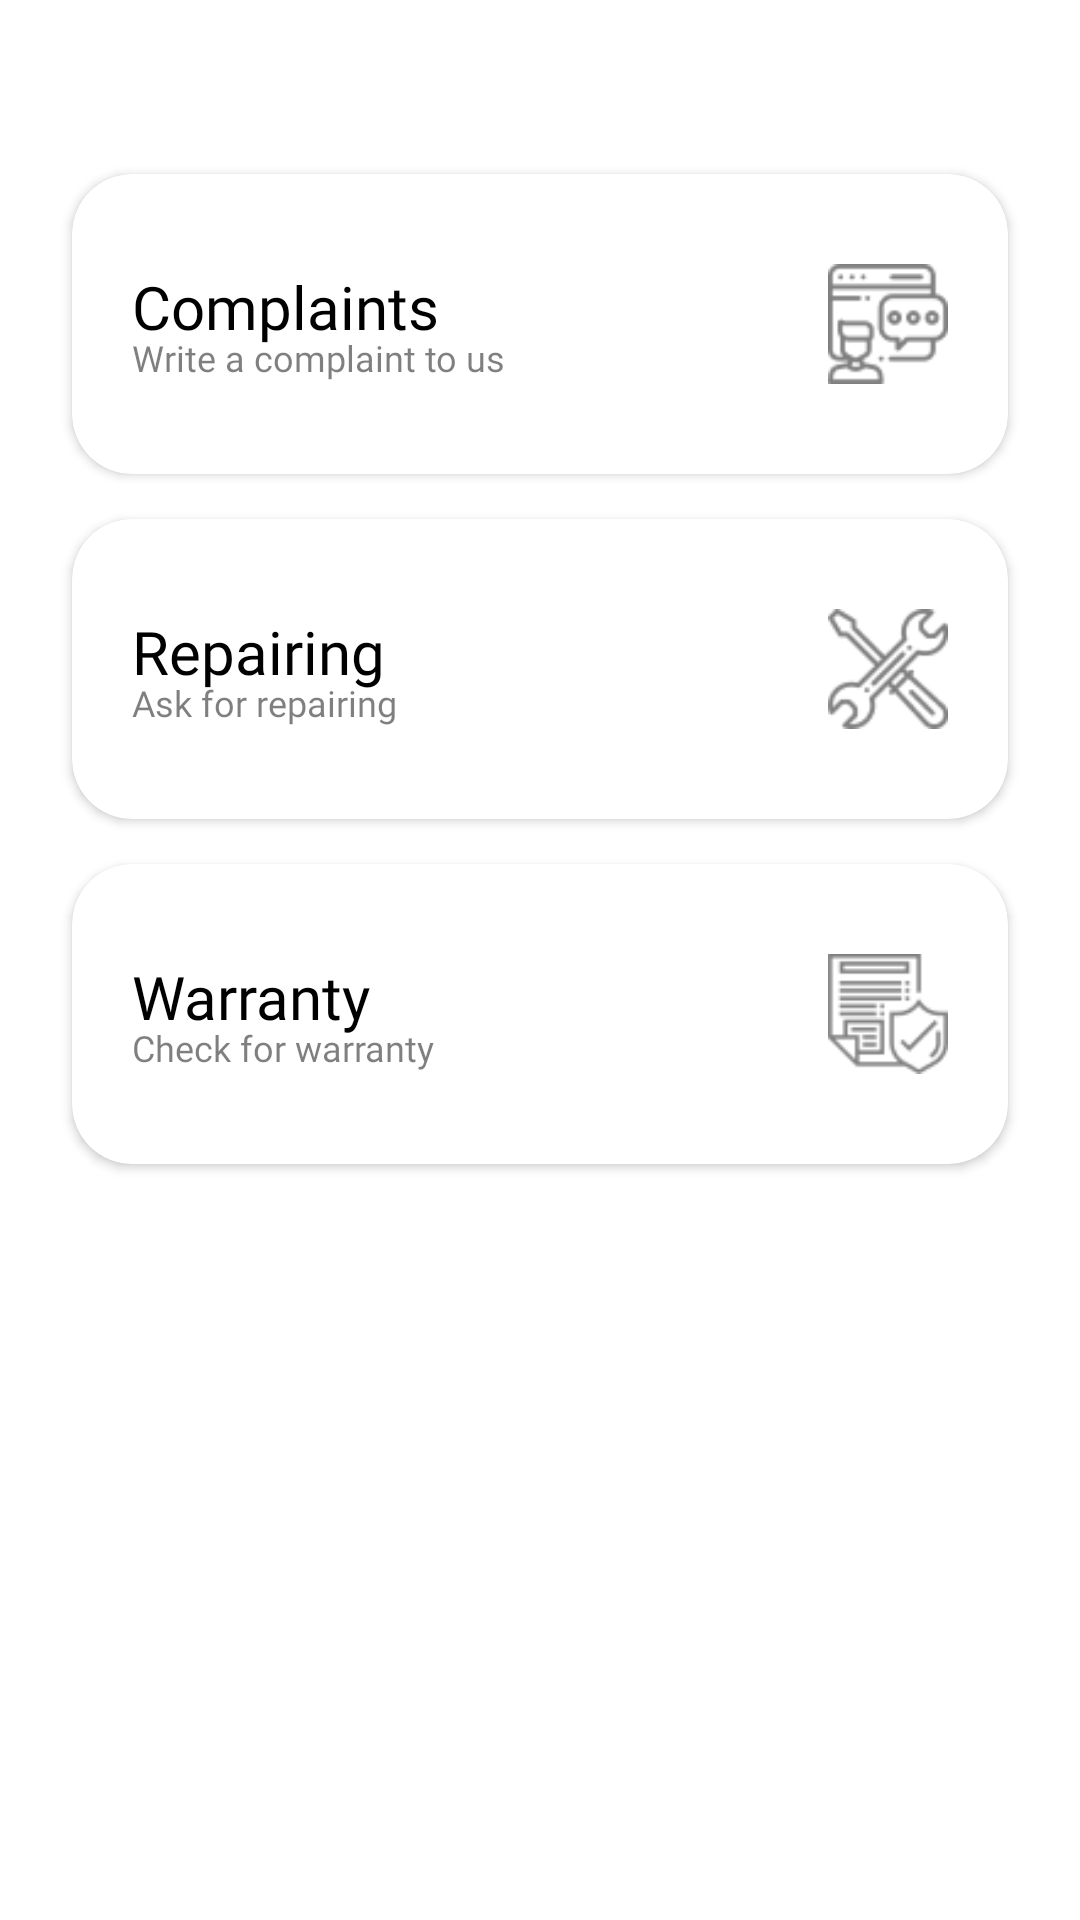

Where to tap for icons on this 1080 × 1920 app screen, as (x=x, y=y):
complaints: (x=888, y=324)
repairing: (x=888, y=669)
warranty: (x=888, y=1014)
